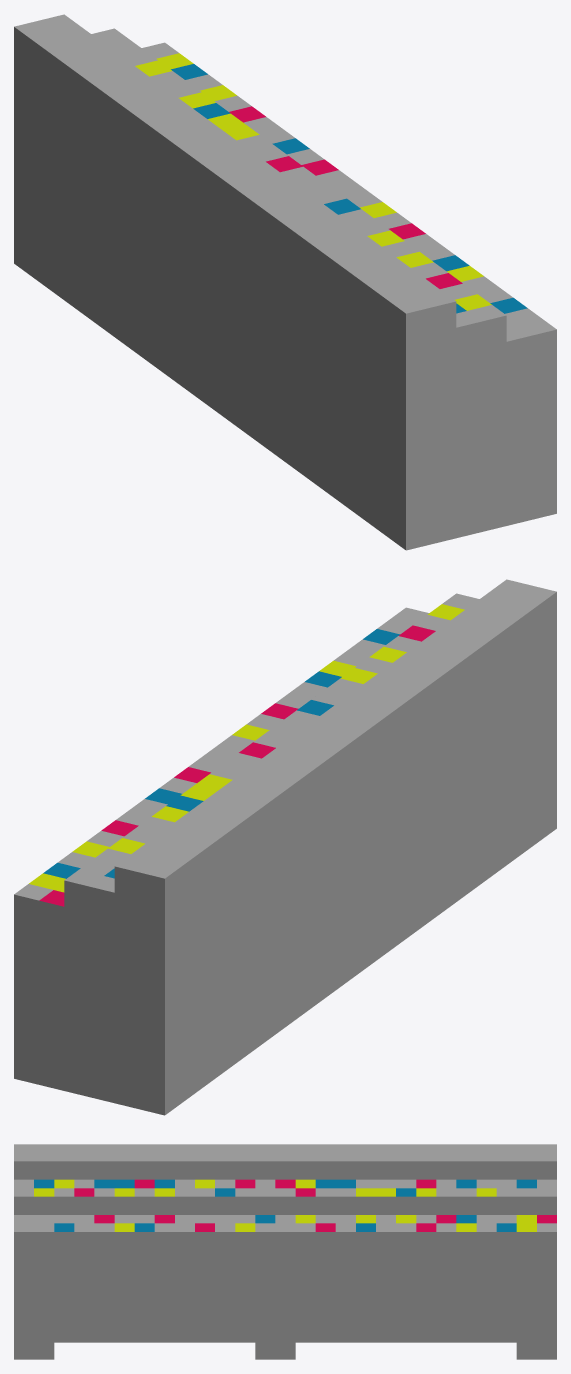
Rendered from SM_ControlPanel_02a.fbx.
3 renders of one model, top to bottom at view 1: azimuth 30°, elevation 25°; view 2: azimuth 150°, elevation 25°; view 3: azimuth 270°, elevation 25°, orthographic. The views are drawn at different scales.
Parts seen in each view (by area): view 1: SM_ControlPanel_02a; view 2: SM_ControlPanel_02a; view 3: SM_ControlPanel_02a.
Boxes of the visible parts, x1,y1,x2,y2 form: SM_ControlPanel_02a: (14, 14, 556, 550); SM_ControlPanel_02a: (14, 579, 556, 1115); SM_ControlPanel_02a: (14, 1144, 556, 1359).
Size of the model in its own units: 6 by 9 by 27.
